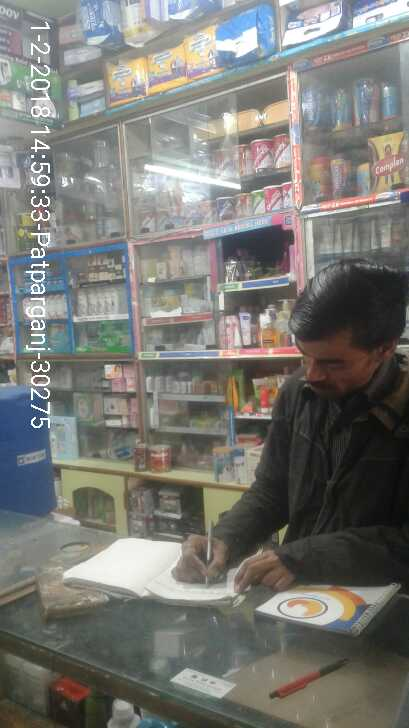beauty: (75, 291, 87, 315), (54, 295, 63, 317), (89, 289, 96, 315), (97, 291, 104, 315), (105, 290, 112, 314), (47, 296, 55, 317), (113, 289, 118, 315), (89, 266, 98, 279), (87, 256, 98, 265), (98, 255, 107, 265), (106, 258, 115, 267), (99, 268, 107, 278), (107, 269, 117, 277)
pharmacy: (48, 323, 69, 352), (101, 324, 129, 337), (89, 339, 123, 347), (47, 270, 53, 279), (56, 277, 63, 284), (52, 278, 57, 285), (47, 279, 52, 285)
